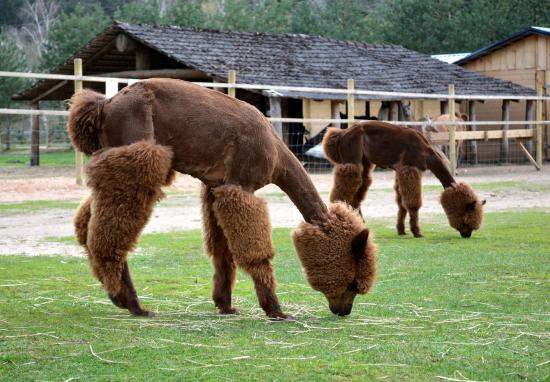alpaca: (65, 78, 378, 321), (322, 121, 487, 240)
